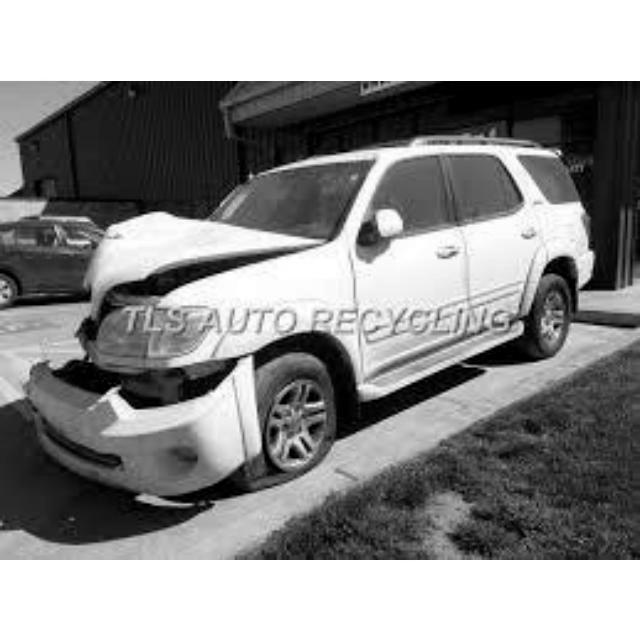bonnet-dent: (73, 219, 270, 300)
front-bumper-dent: (16, 348, 245, 471)
